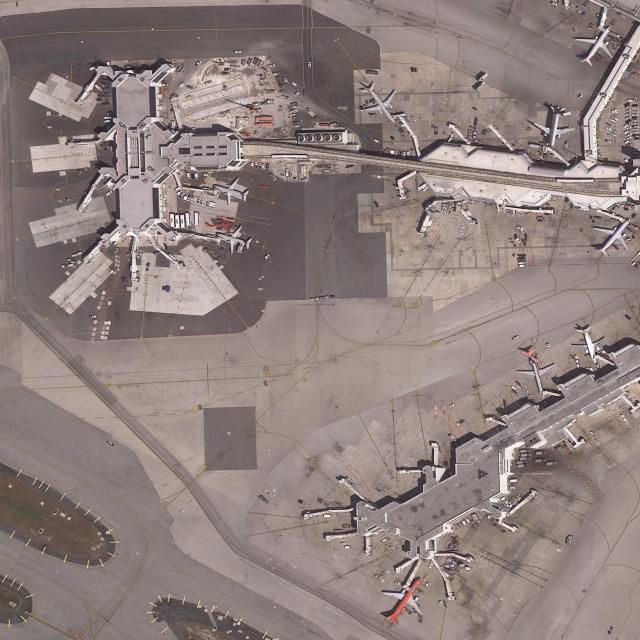large-vehicle: (477, 73, 488, 82), (175, 214, 181, 229), (476, 82, 486, 91), (185, 213, 191, 227), (170, 212, 175, 227), (180, 214, 185, 228), (195, 212, 199, 226), (269, 174, 276, 182), (535, 451, 548, 455), (567, 535, 572, 545), (94, 85, 102, 91), (546, 462, 558, 466), (559, 112, 571, 116), (520, 457, 531, 461), (400, 152, 406, 159), (521, 453, 531, 457), (516, 461, 526, 465), (518, 464, 528, 468), (536, 459, 545, 463), (520, 450, 530, 453), (103, 116, 112, 119), (286, 169, 289, 177), (195, 173, 198, 180), (187, 173, 190, 180), (262, 163, 265, 169), (172, 121, 175, 127)
plane: (372, 565, 441, 631), (348, 75, 411, 134), (566, 17, 625, 74), (583, 207, 640, 265), (513, 345, 562, 402), (529, 102, 579, 152), (566, 322, 612, 367), (209, 171, 255, 211), (213, 220, 255, 258)
small-vehicle: (178, 82, 185, 88), (195, 60, 202, 66), (279, 535, 285, 541), (294, 91, 300, 97), (107, 441, 114, 446), (611, 116, 618, 121), (577, 6, 582, 13), (272, 72, 280, 76), (179, 193, 185, 198), (193, 197, 198, 203), (106, 191, 112, 196), (264, 254, 269, 260), (462, 519, 467, 525), (292, 81, 297, 87), (624, 123, 630, 128), (606, 140, 612, 145), (187, 195, 191, 202), (466, 517, 470, 524), (307, 61, 311, 68), (268, 64, 275, 68), (624, 130, 631, 134), (625, 140, 632, 144), (176, 191, 181, 196), (183, 195, 188, 200), (453, 525, 458, 530), (374, 202, 379, 207), (578, 94, 583, 99), (190, 196, 194, 202), (208, 202, 212, 208), (469, 516, 473, 522), (282, 96, 290, 99), (284, 78, 288, 84), (205, 81, 211, 85), (293, 105, 299, 109), (626, 126, 632, 130), (626, 133, 632, 137), (626, 137, 632, 141), (610, 119, 616, 123), (513, 335, 519, 339), (552, 2, 558, 6), (89, 315, 96, 318), (206, 201, 210, 206), (197, 198, 201, 203), (200, 199, 204, 204), (212, 203, 216, 208), (413, 117, 417, 122), (625, 106, 630, 110), (626, 116, 631, 120), (624, 103, 629, 107), (612, 133, 617, 137), (606, 123, 611, 127), (627, 143, 632, 147), (625, 159, 630, 163), (162, 83, 168, 86), (304, 89, 307, 95), (280, 90, 286, 93), (104, 120, 110, 123), (171, 109, 174, 115), (289, 110, 295, 113), (605, 127, 611, 130), (609, 122, 615, 125), (633, 125, 639, 128), (607, 133, 611, 137), (251, 161, 254, 166), (255, 162, 258, 167), (426, 582, 429, 587), (257, 74, 262, 77), (293, 121, 298, 124), (626, 109, 631, 112), (626, 113, 631, 116), (626, 120, 631, 123), (588, 27, 593, 30), (565, 142, 568, 147), (612, 130, 617, 133), (612, 110, 615, 115), (204, 174, 211, 176), (235, 51, 241, 53), (293, 125, 299, 127), (292, 113, 296, 116), (325, 170, 331, 172), (629, 100, 635, 102), (615, 109, 617, 115), (632, 111, 638, 113), (635, 137, 639, 140), (259, 163, 261, 168), (633, 105, 638, 107), (634, 149, 639, 151), (634, 135, 639, 137), (633, 132, 638, 134), (633, 129, 638, 131), (633, 123, 638, 125), (632, 120, 637, 122), (632, 114, 637, 116), (408, 151, 410, 155), (521, 226, 523, 230), (634, 152, 638, 154), (633, 117, 637, 119)
